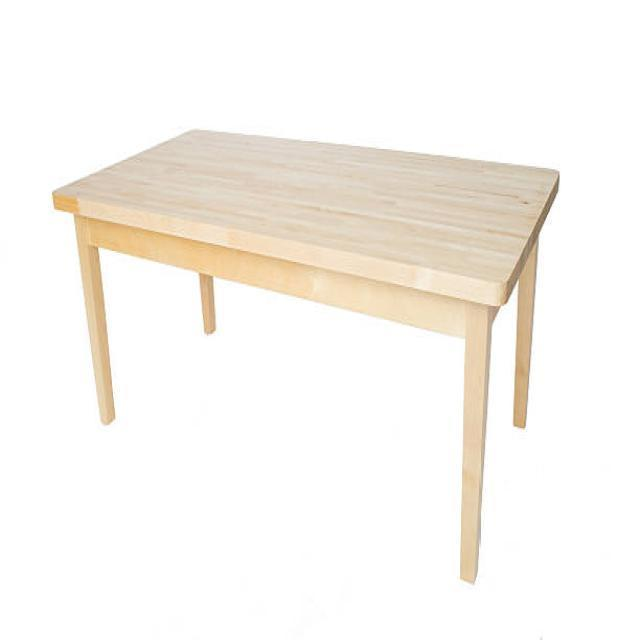table: (52, 126, 560, 584)
